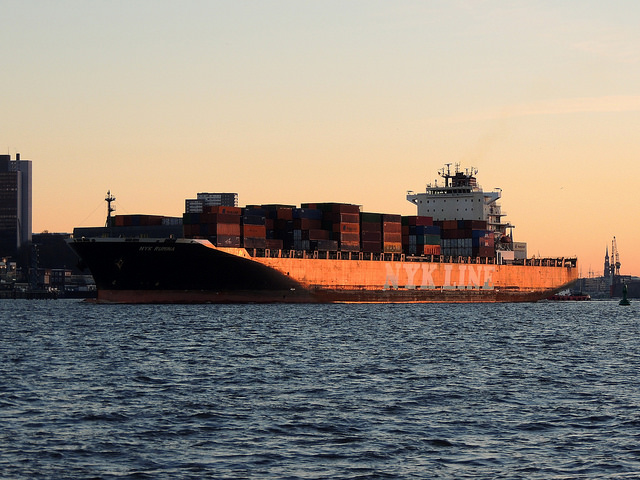container_ship: (83, 168, 576, 301)
